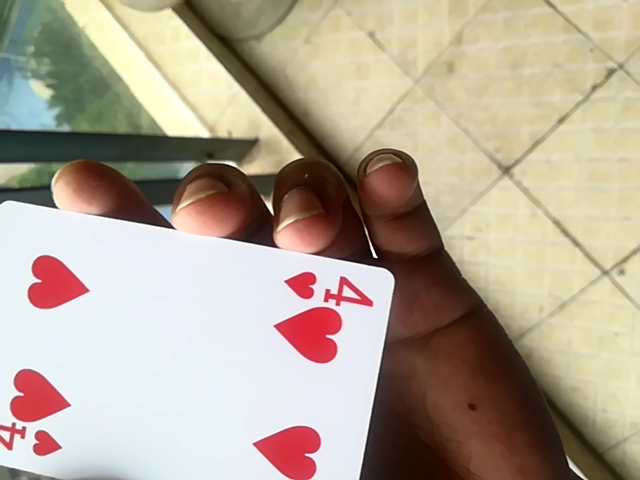hx 4: (4, 193, 395, 480)
